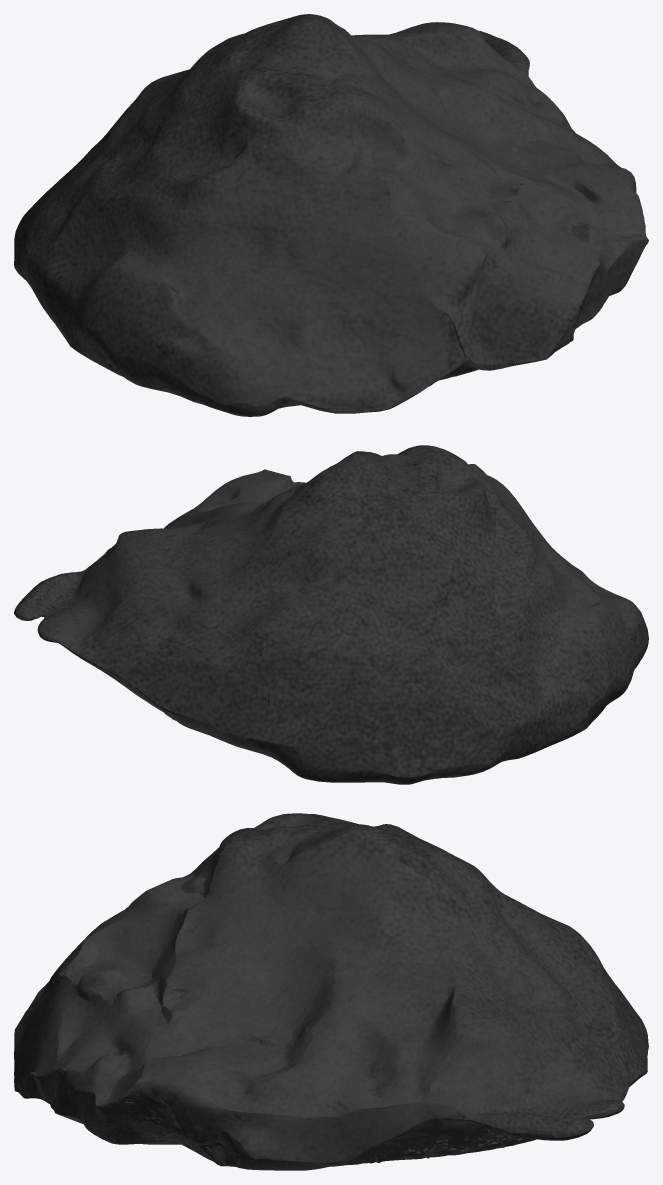
3 renders of one model, top to bottom at view 1: azimuth 30°, elevation 25°; view 2: azimuth 150°, elevation 25°; view 3: azimuth 270°, elevation 25°, orthographic. The views are drawn at different scales.
Visible parts, largest first — view 1: world; view 2: world; view 3: world.
Part boxes in pixels (x1=…): world: x1=14, y1=14, x2=648, y2=416; world: x1=14, y1=445, x2=648, y2=784; world: x1=14, y1=813, x2=648, y2=1170.
Size of the model in its own units: 1.2 by 0.5575 by 1.2.
1 material, 1 textured.
